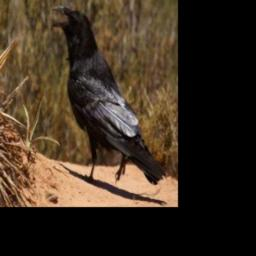Crow: (53, 5, 167, 185)
